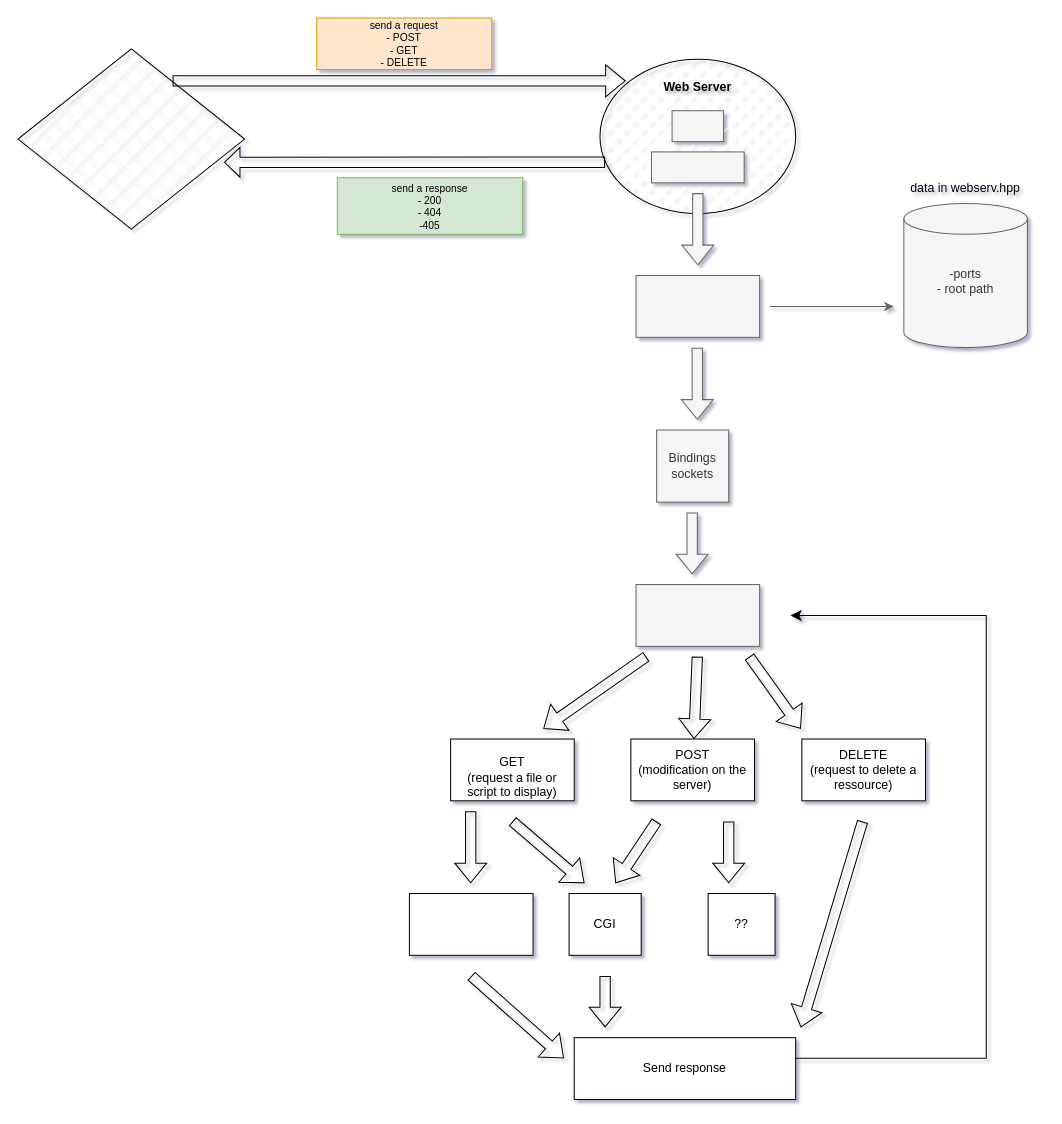
The diagram is 1062 pixels wide and 1124 high, and some of its shapes have lost their labels. Here are the shapes that lost their labels. From the top down, the centre of each, then its label:
(x=131, y=138): CLIENT BROWSER
(x=697, y=126): Files
(x=697, y=167): HTTP Server
(x=697, y=305): Parsing config file
(x=697, y=614): Receive Request
(x=470, y=923): File
